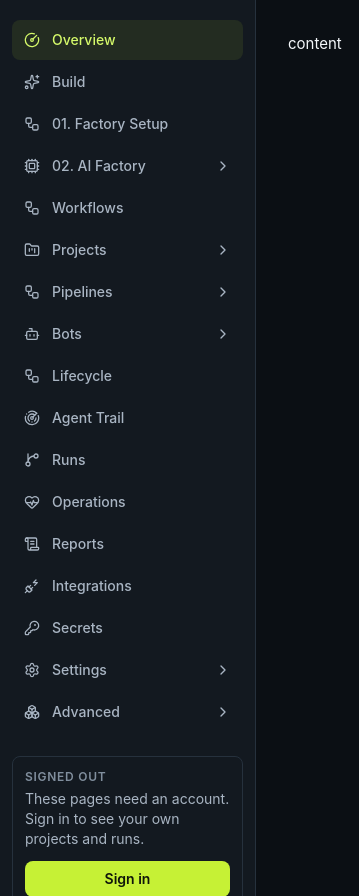
Test: AppShell navigation › lets a person open a subpage group and fold it again
Click the button named "Expand Projects subpages" at (223, 250), box [207, 234, 239, 266]
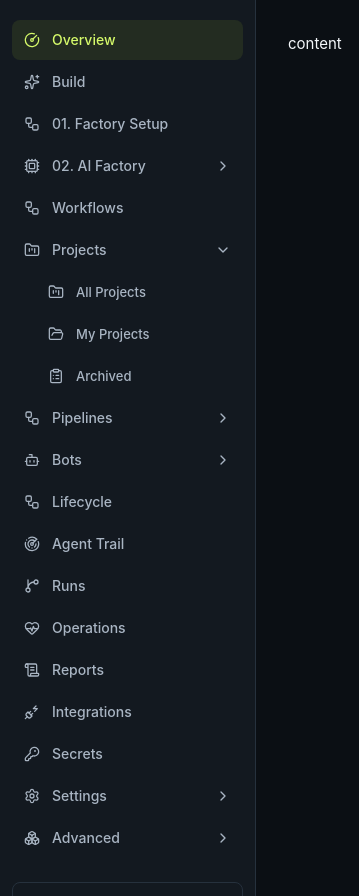
Expected: the link "All Projects" is shown, [48, 284, 146, 300]
Click the button named "Collapse Projects subpages" at (223, 250), box [207, 234, 239, 266]
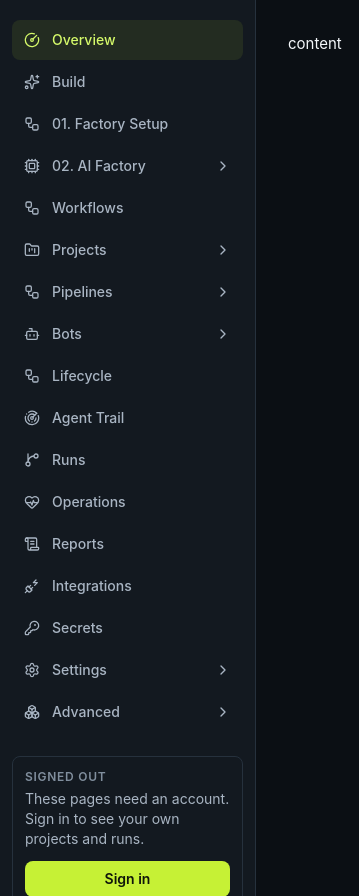
Expected: the link "All Projects" is gone
